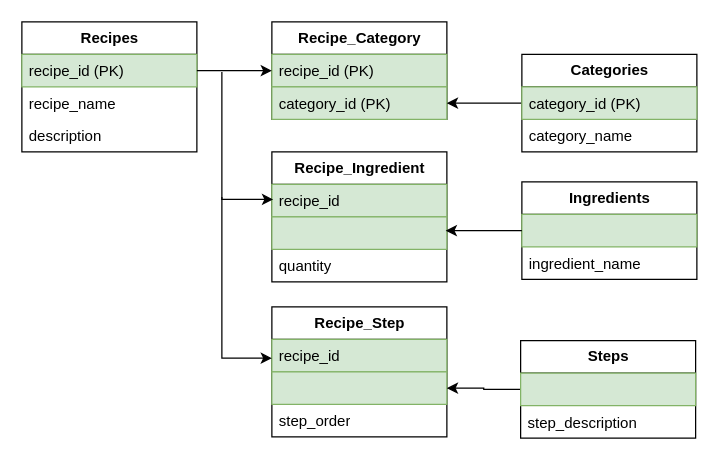
This 719x464 diagram has some shape labels left out. The centre of each missing label's shape, as x and y in pixels:
"ingredient_id" goes at point 359,232.
"ingredient_id (PK)" goes at point 609,230.
"step_id" goes at point 359,387.
"step_id (PK)" goes at point 607,389.
